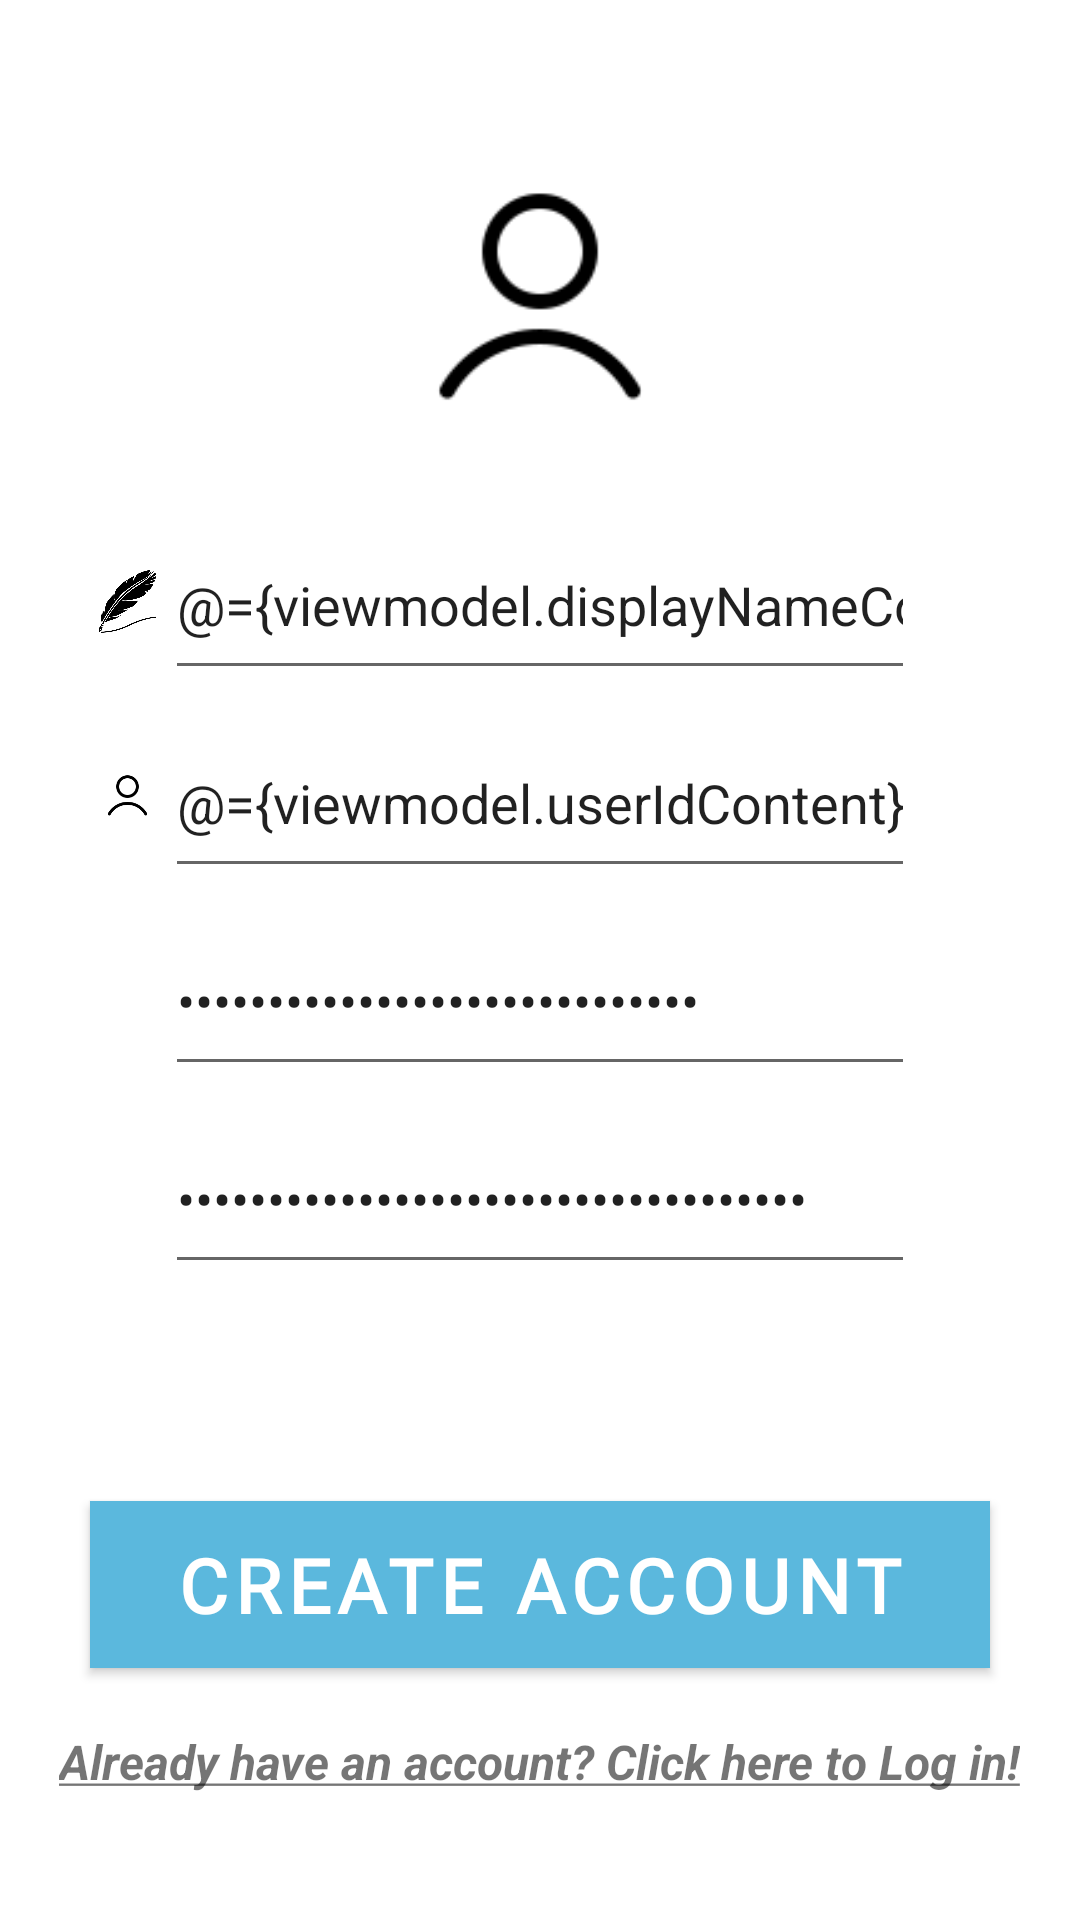

Icon bounding boxes for this 1080×1920 phone screenshot, format box(x1, y1, x2, y2):
A feather: box(99, 570, 156, 633)
